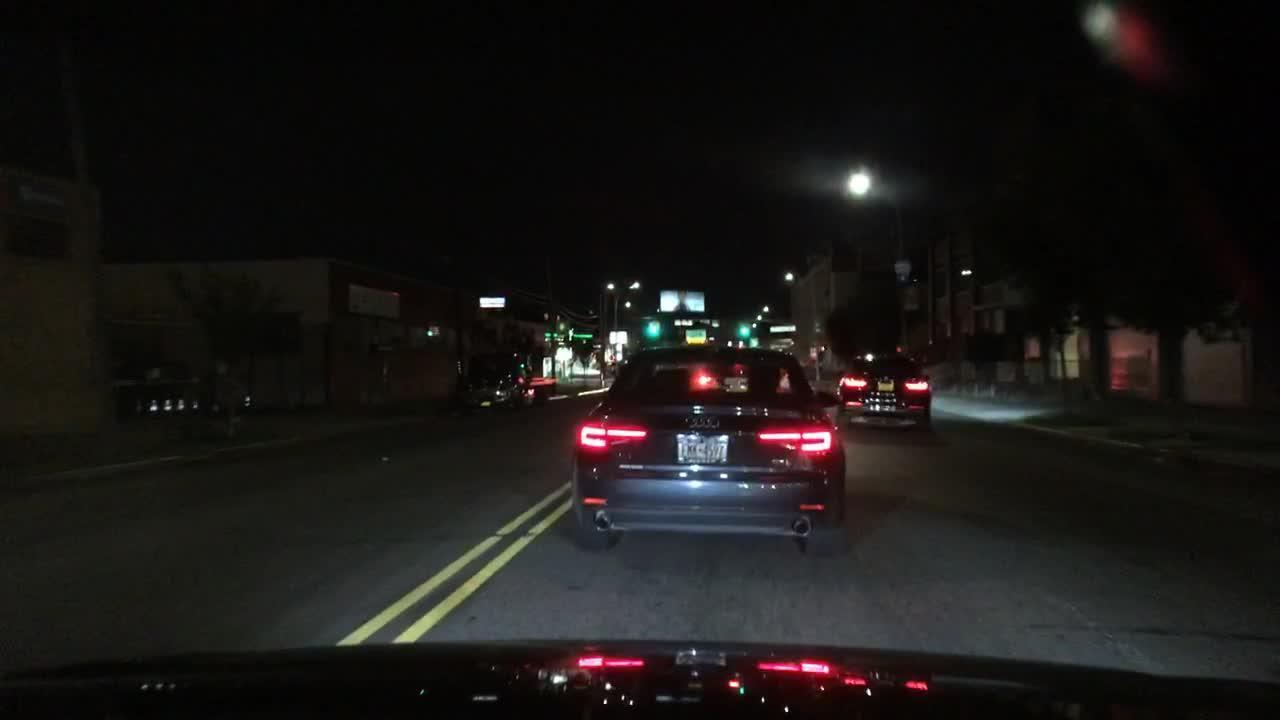Audi: (679, 410, 725, 434)
